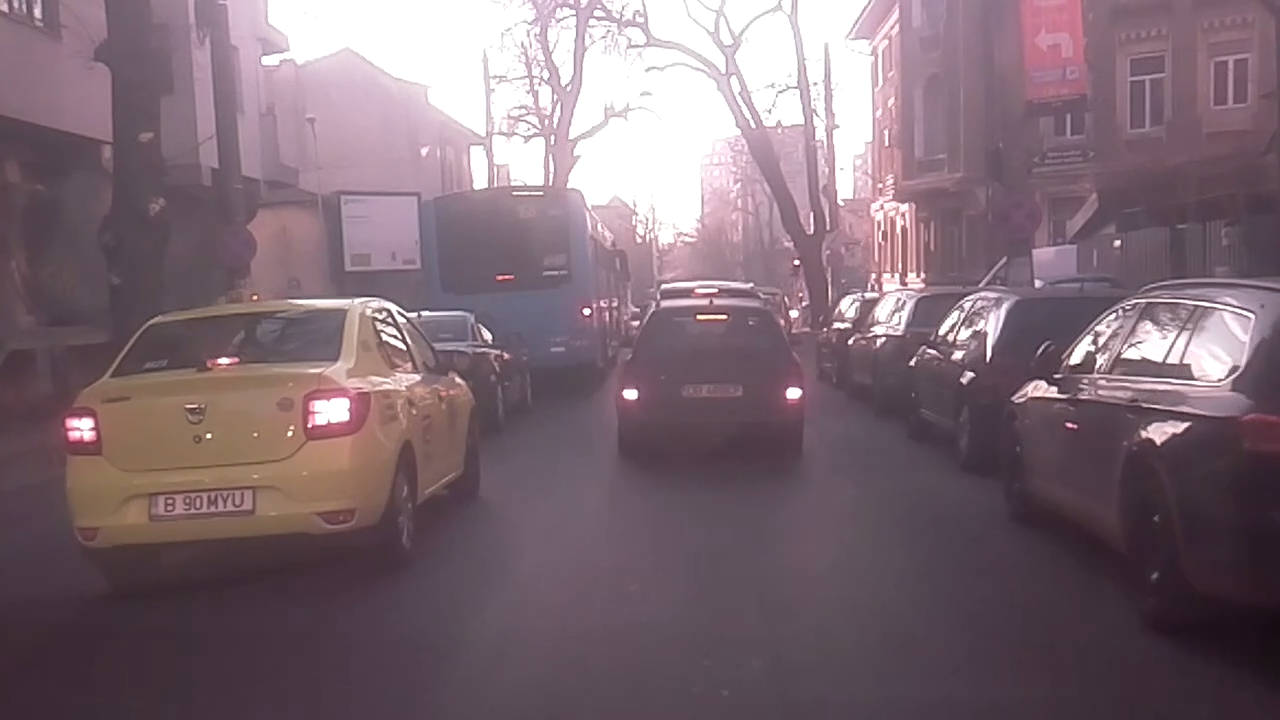license-plate: (146, 483, 257, 523)
